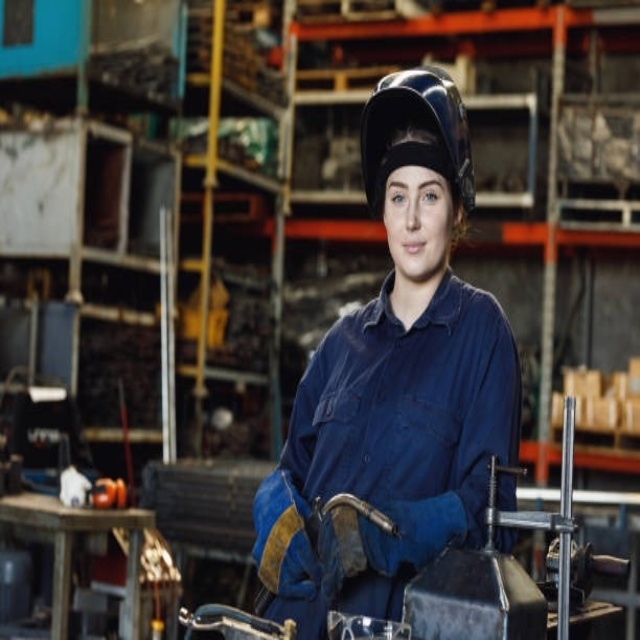Guantes: (318, 480, 472, 605), (250, 460, 320, 601)
Sin_gafas: (387, 176, 445, 212)
Sin_mascara: (395, 234, 433, 271)
